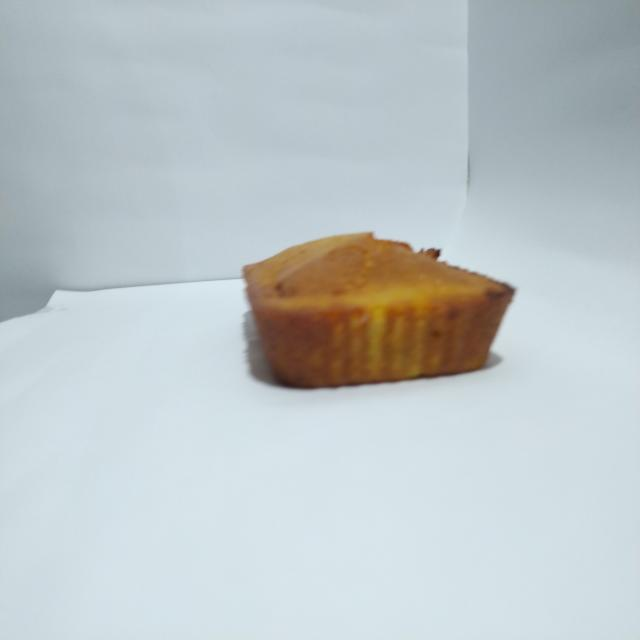Food: (224, 218, 518, 396)
